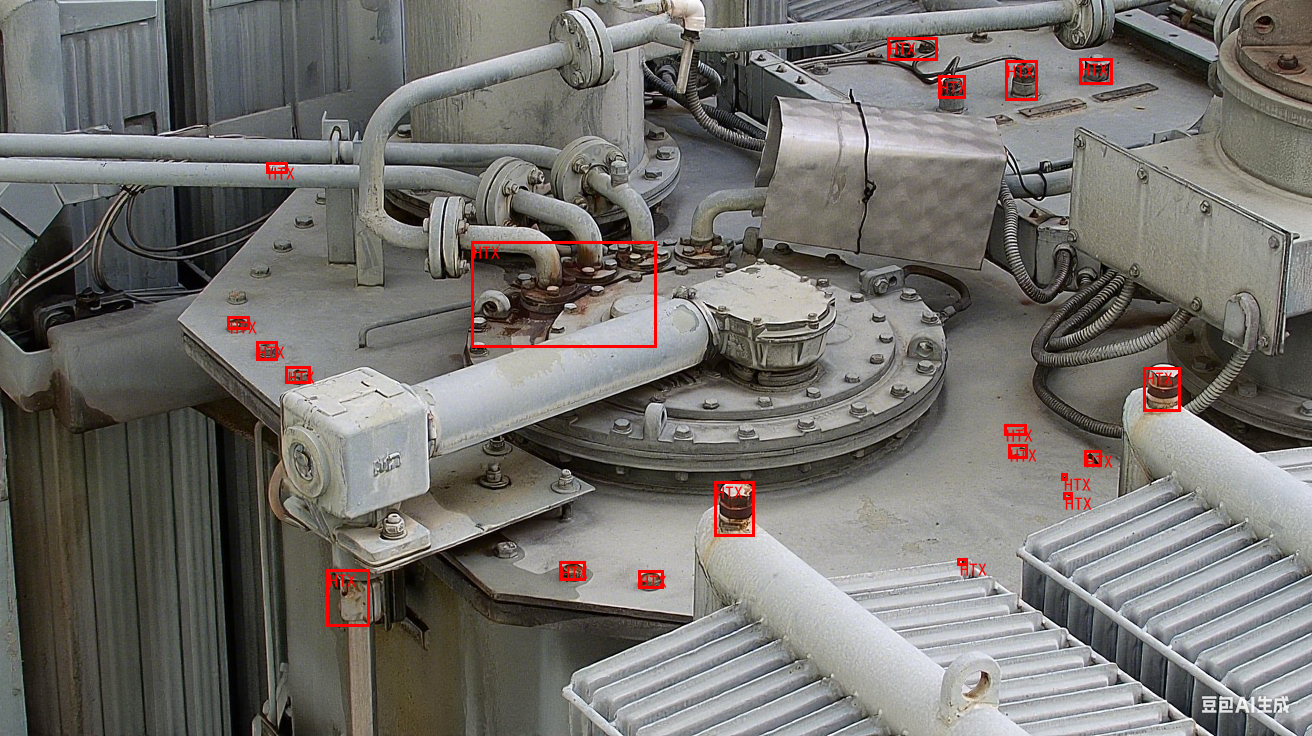HTX: (471, 241, 656, 347), (327, 569, 370, 626), (714, 481, 754, 536), (1144, 367, 1181, 411), (1005, 60, 1037, 100), (887, 37, 937, 60), (1079, 58, 1112, 84), (938, 76, 965, 99), (559, 561, 585, 580), (638, 570, 663, 588), (286, 366, 311, 383), (256, 341, 277, 360), (228, 316, 250, 329), (1084, 450, 1101, 466), (1008, 444, 1027, 458), (1004, 424, 1026, 435), (266, 162, 287, 173), (958, 558, 968, 565), (1063, 492, 1072, 499), (1062, 473, 1068, 480)
